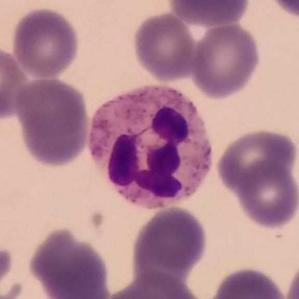Neutrophil: (84, 78, 220, 217)
Platelets: (0, 243, 14, 284)
RBC: (14, 74, 92, 168), (25, 224, 112, 299), (130, 204, 211, 277), (190, 21, 263, 100), (215, 126, 298, 194), (10, 5, 82, 80), (130, 10, 198, 83), (233, 159, 299, 231), (105, 268, 205, 299), (208, 264, 288, 299), (165, 0, 253, 27), (0, 43, 29, 120), (282, 254, 299, 299), (265, 0, 298, 23)
